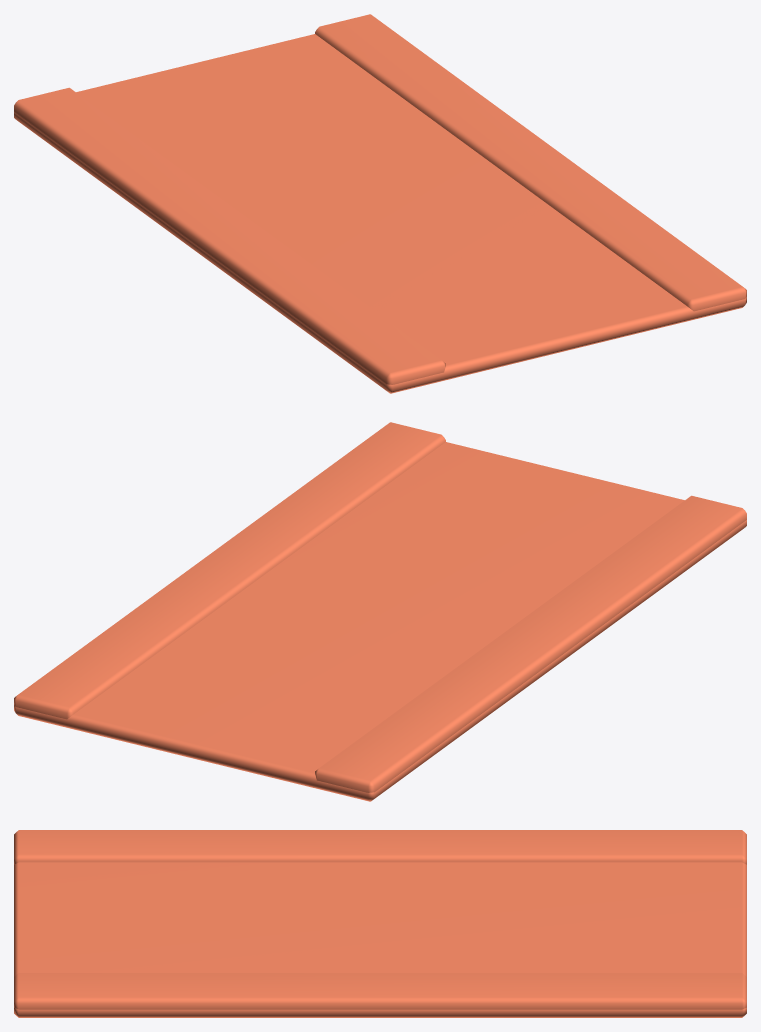
Rendered from City_14_Road_1.glb.
3 renders of one model, top to bottom at view 1: azimuth 30°, elevation 25°; view 2: azimuth 150°, elevation 25°; view 3: azimuth 270°, elevation 25°, orthographic. The views are drawn at different scales.
Visible parts, largest first — view 1: City_14_Road_1; view 2: City_14_Road_1; view 3: City_14_Road_1.
Part boxes in pixels (<box>): City_14_Road_1: <box>14,14,746,393</box>; City_14_Road_1: <box>14,422,746,801</box>; City_14_Road_1: <box>14,830,746,1017</box>.
Size of the model in its own units: 4.02 by 0.2266 by 7.28.
Materials: 1 (1 with a texture image).
